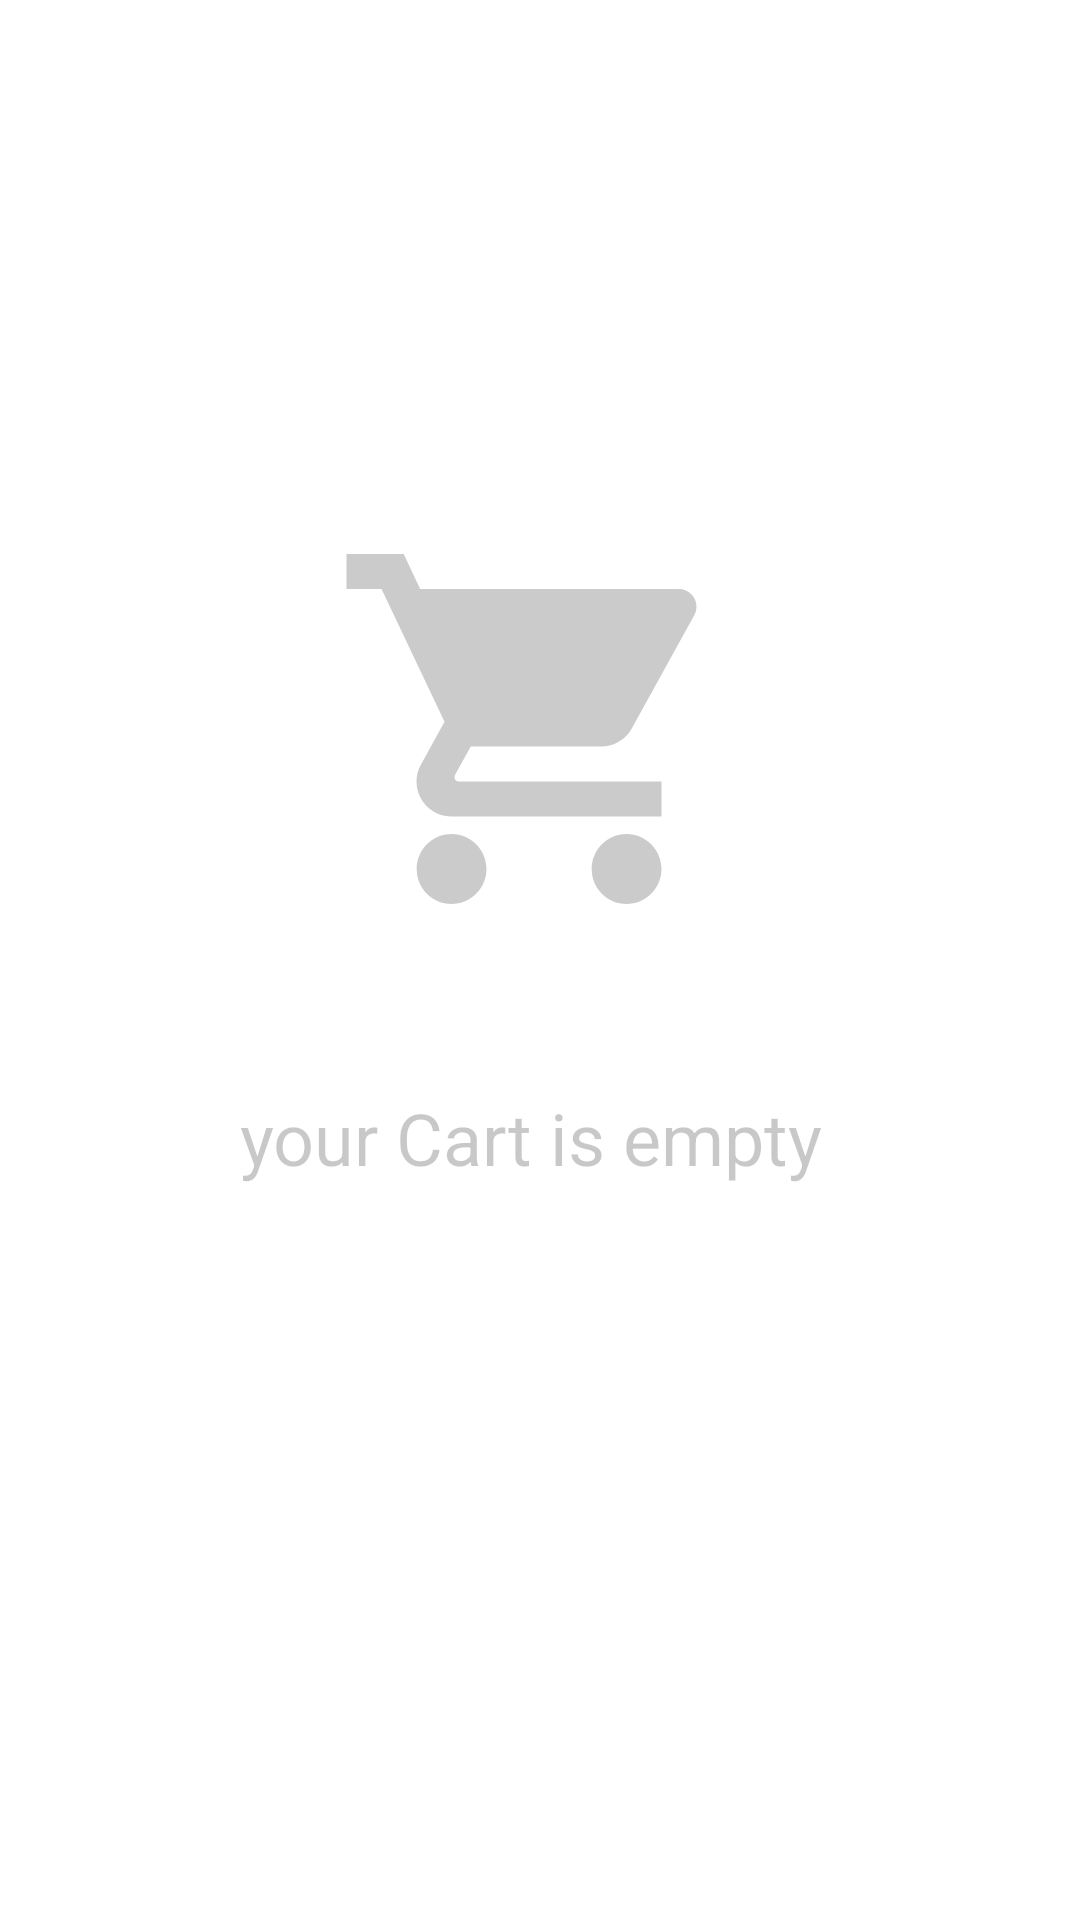

Icons on this 1080w x 1920h Android screen, each with its box as (x1, y1, x2, y2):
shopping cart: (346, 554, 696, 904)
